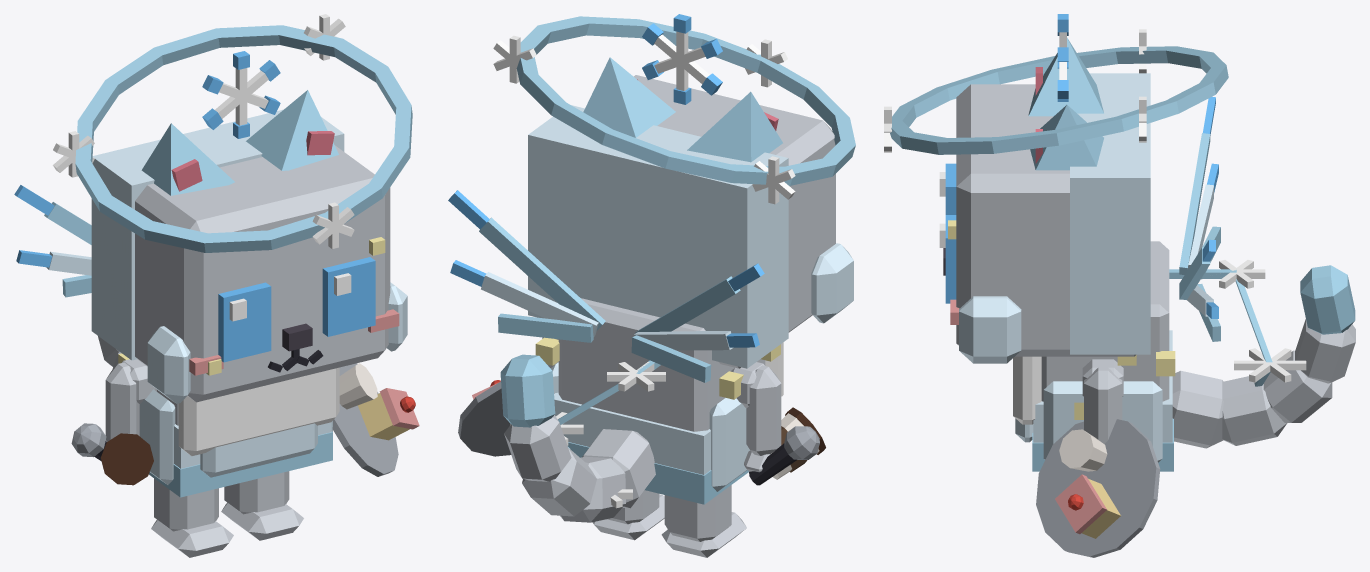
Rendered from CatCafe_Cat_Blizzard_Work.fbx.
3 renders of one model, left to right at view 1: azimuth 30°, elevation 25°; view 2: azimuth 150°, elevation 25°; view 3: azimuth 270°, elevation 25°, orthographic. The views are drawn at different scales.
Visible parts, largest first — view 1: CatCafe_Cat_Blizzard_Work_Head, CatCafe_Cat_Blizzard_Work_Glow, CatCafe_Cat_Blizzard_Work_Body, CatCafe_Cat_Blizzard_Work_Held_Waiter, CatCafe_Cat_Blizzard_Work_EarL, CatCafe_Cat_Blizzard_Work_LegB2, CatCafe_Cat_Blizzard_Work_Eye1, CatCafe_Cat_Blizzard_Work_LegB1, CatCafe_Cat_Blizzard_Work_Eye2, CatCafe_Cat_Blizzard_Work_EarR, CatCafe_Cat_Blizzard_Work_Prop, CatCafe_Cat_Blizzard_Work_Prop2 (+4 smaller); view 2: CatCafe_Cat_Blizzard_Work_Head, CatCafe_Cat_Blizzard_Work_Body, CatCafe_Cat_Blizzard_Work_Glow, CatCafe_Cat_Blizzard_Work_Tail, CatCafe_Cat_Blizzard_Work_Prop2, CatCafe_Cat_Blizzard_Work_EarL, CatCafe_Cat_Blizzard_Work_LegB2, CatCafe_Cat_Blizzard_Work_EarR, CatCafe_Cat_Blizzard_Work_LegF2, CatCafe_Cat_Blizzard_Work_Held_Waiter, CatCafe_Cat_Blizzard_Work_Prop, CatCafe_Cat_Blizzard_Work_Flakes_Glow (+4 smaller); view 3: CatCafe_Cat_Blizzard_Work_Head, CatCafe_Cat_Blizzard_Work_Tail, CatCafe_Cat_Blizzard_Work_Body, CatCafe_Cat_Blizzard_Work_Held_Waiter, CatCafe_Cat_Blizzard_Work_Glow, CatCafe_Cat_Blizzard_Work_Prop2, CatCafe_Cat_Blizzard_Work_EarR, CatCafe_Cat_Blizzard_Work_Flakes_Glow, CatCafe_Cat_Blizzard_Work_EarL, CatCafe_Cat_Blizzard_Work_LegF1, CatCafe_Cat_Blizzard_Work_Eye1, CatCafe_Cat_Blizzard_Work_Prop (+2 smaller).
Boxes of the visible parts, x1,y1,x2,y2 form: CatCafe_Cat_Blizzard_Work_Head: (91,109,407,403); CatCafe_Cat_Blizzard_Work_Glow: (75,25,412,252); CatCafe_Cat_Blizzard_Work_Body: (118,353,339,497); CatCafe_Cat_Blizzard_Work_Held_Waiter: (332,363,419,476); CatCafe_Cat_Blizzard_Work_EarL: (246,90,338,170); CatCafe_Cat_Blizzard_Work_LegB2: (151,478,233,557); CatCafe_Cat_Blizzard_Work_Eye1: (322,257,375,336); CatCafe_Cat_Blizzard_Work_LegB1: (221,471,303,540); CatCafe_Cat_Blizzard_Work_Eye2: (218,282,271,362); CatCafe_Cat_Blizzard_Work_EarR: (141,123,234,195); CatCafe_Cat_Blizzard_Work_Prop: (53,14,354,248); CatCafe_Cat_Blizzard_Work_Prop2: (44,202,91,297); CatCafe_Cat_Blizzard_Work_Head: (528,75,853,368); CatCafe_Cat_Blizzard_Work_Body: (535,298,783,504); CatCafe_Cat_Blizzard_Work_Glow: (516,14,855,185); CatCafe_Cat_Blizzard_Work_Tail: (500,354,655,522); CatCafe_Cat_Blizzard_Work_Prop2: (479,217,740,382); CatCafe_Cat_Blizzard_Work_EarL: (583,57,675,137); CatCafe_Cat_Blizzard_Work_LegB2: (661,485,746,557); CatCafe_Cat_Blizzard_Work_EarR: (687,91,782,162); CatCafe_Cat_Blizzard_Work_LegF2: (744,365,781,472); CatCafe_Cat_Blizzard_Work_Held_Waiter: (458,380,511,456); CatCafe_Cat_Blizzard_Work_Prop: (493,35,795,204); CatCafe_Cat_Blizzard_Work_Flakes_Glow: (510,362,665,508); CatCafe_Cat_Blizzard_Work_Head: (943,73,1150,363); CatCafe_Cat_Blizzard_Work_Tail: (1172,265,1355,448); CatCafe_Cat_Blizzard_Work_Body: (1013,241,1175,471); CatCafe_Cat_Blizzard_Work_Held_Waiter: (1036,419,1160,557); CatCafe_Cat_Blizzard_Work_Glow: (890,14,1228,154); CatCafe_Cat_Blizzard_Work_Prop2: (1169,133,1236,341); CatCafe_Cat_Blizzard_Work_EarR: (1028,37,1103,116); CatCafe_Cat_Blizzard_Work_Flakes_Glow: (1219,260,1306,386); CatCafe_Cat_Blizzard_Work_EarL: (1030,105,1103,170); CatCafe_Cat_Blizzard_Work_LegF1: (1084,367,1122,443); CatCafe_Cat_Blizzard_Work_Eye1: (939,215,956,303); CatCafe_Cat_Blizzard_Work_Prop: (884,29,1146,152).
Bounding box in the file's own units: 1.94 × 2.7 × 2.33.
Materials: 1 (1 with a texture image).
